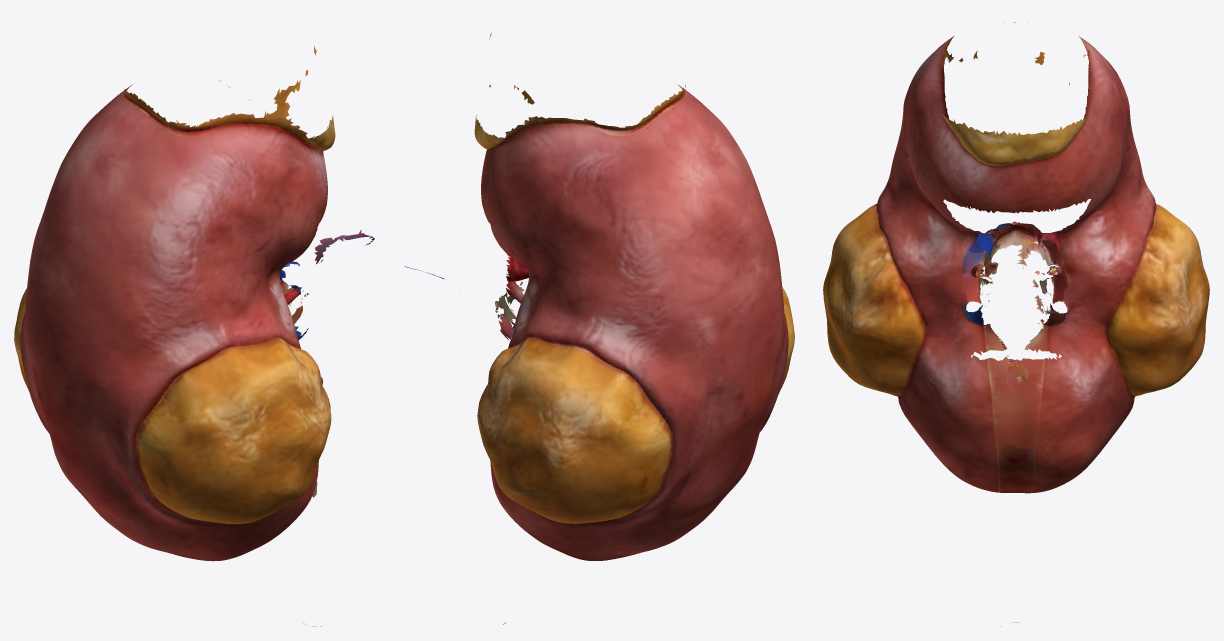
Rendered from 02-registered.glb.
3 views of the same model, side by side, from view 1: azimuth 30°, elevation 25°; view 2: azimuth 150°, elevation 25°; view 3: azimuth 270°, elevation 25° (orthographic). The views are drawn at different scales.
Visible parts, largest first — view 1: Lux3D_Kidney_Registered_Shell; view 2: Lux3D_Kidney_Registered_Shell; view 3: Lux3D_Kidney_Registered_Shell.
Part boxes in pixels (<box>): Lux3D_Kidney_Registered_Shell: <box>14,46,374,626</box>; Lux3D_Kidney_Registered_Shell: <box>404,33,794,624</box>; Lux3D_Kidney_Registered_Shell: <box>823,22,1209,626</box>.
Bounding box in the file's own units: 0.5558 × 0.9462 × 0.581.
1 material, 1 textured.
